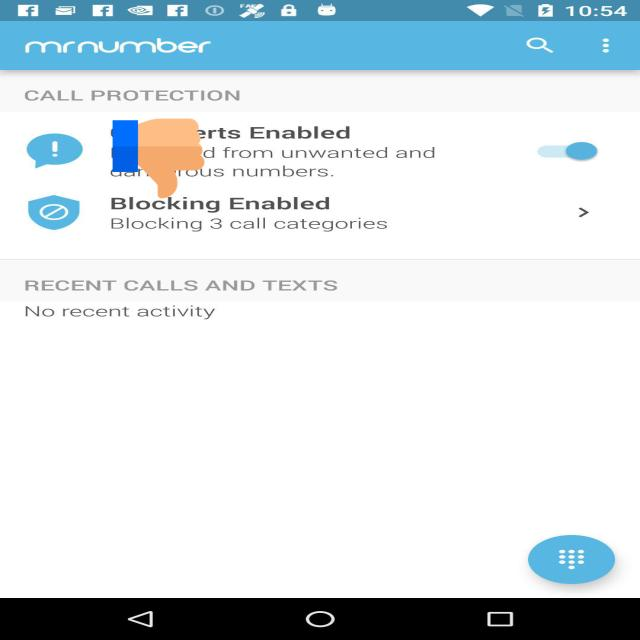obstruction: (112, 117, 204, 200)
